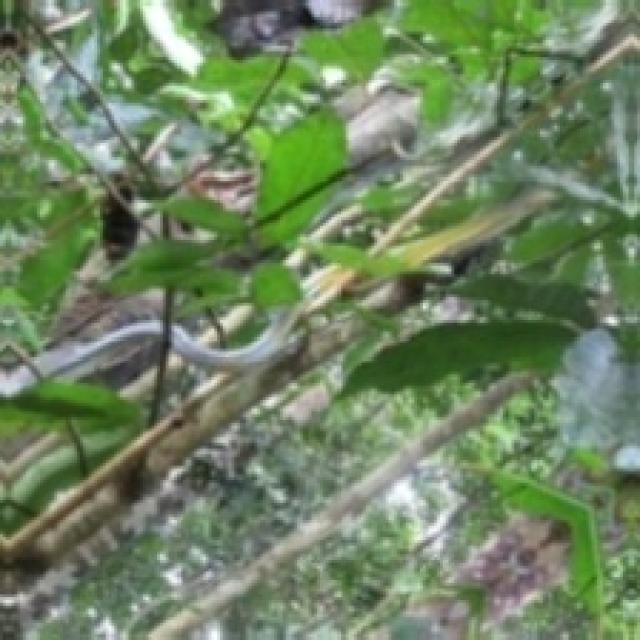red-tailed green ratsnake: (172, 265, 358, 369), (391, 189, 550, 269), (38, 320, 161, 377), (0, 366, 35, 397)
